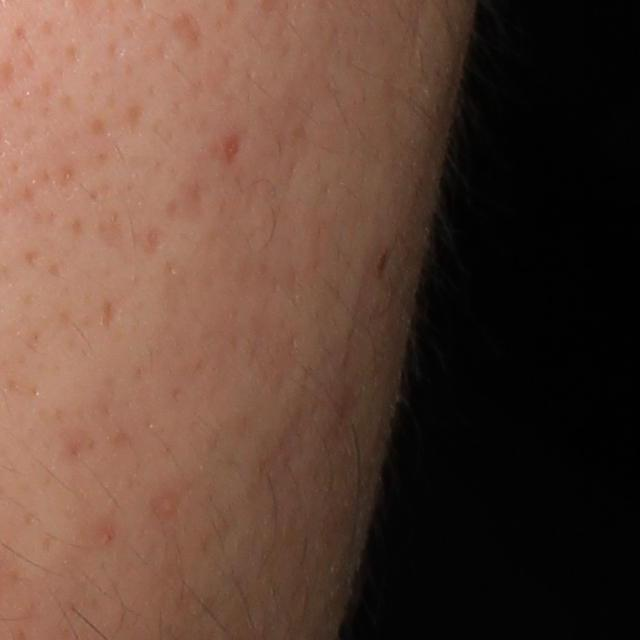atrophic_scar: (166, 175, 214, 227), (175, 14, 206, 51), (100, 296, 115, 332)
